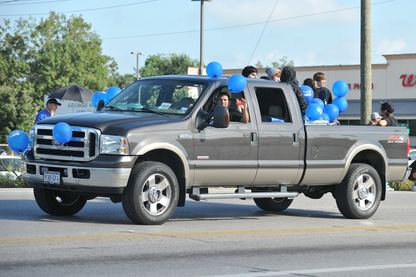truck: (21, 75, 412, 225)
